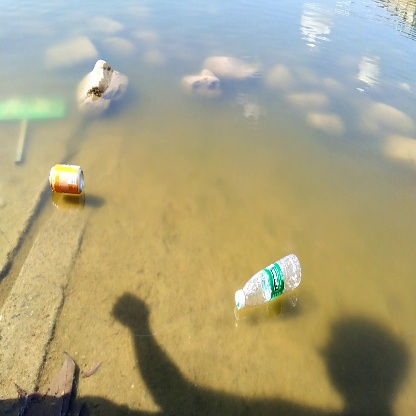bottle: (236, 248, 303, 324), (45, 160, 87, 197)
